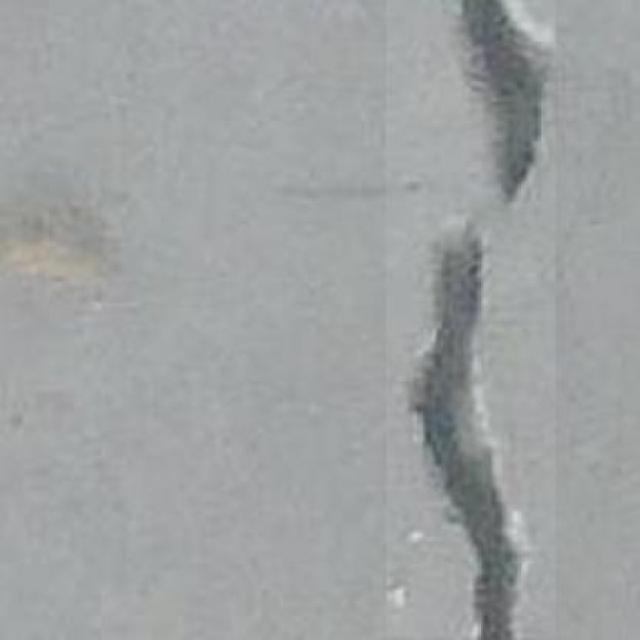Crack: (400, 0, 557, 638)
